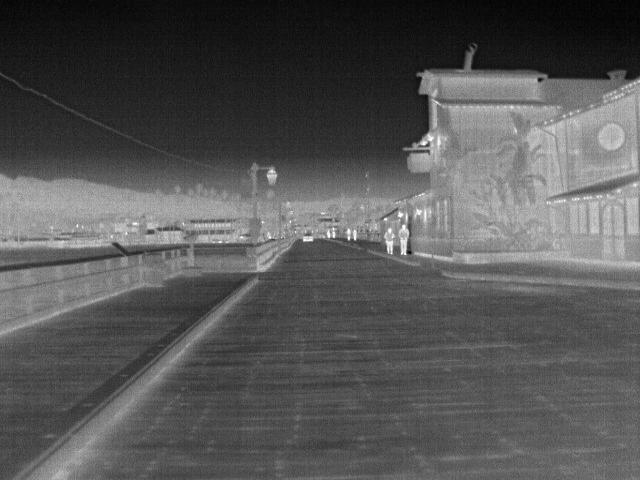car: (300, 230, 315, 242)
person: (396, 221, 412, 257), (382, 226, 396, 256), (350, 227, 360, 244), (346, 226, 353, 243)
